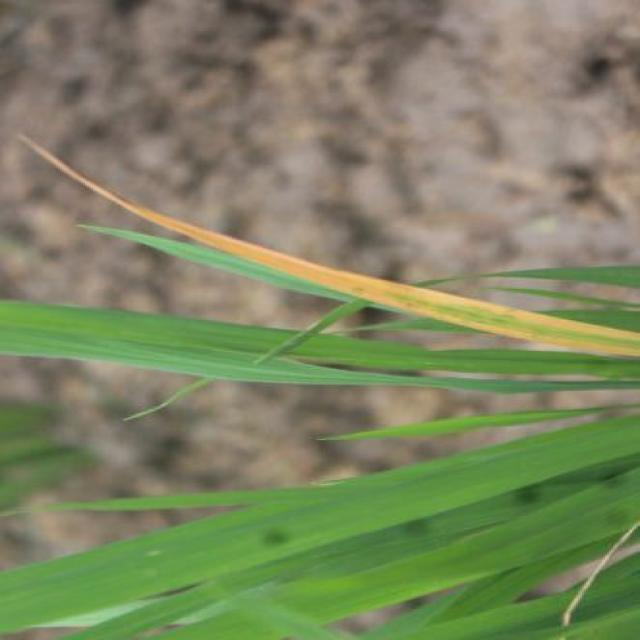Tungro: (32, 129, 640, 355)
